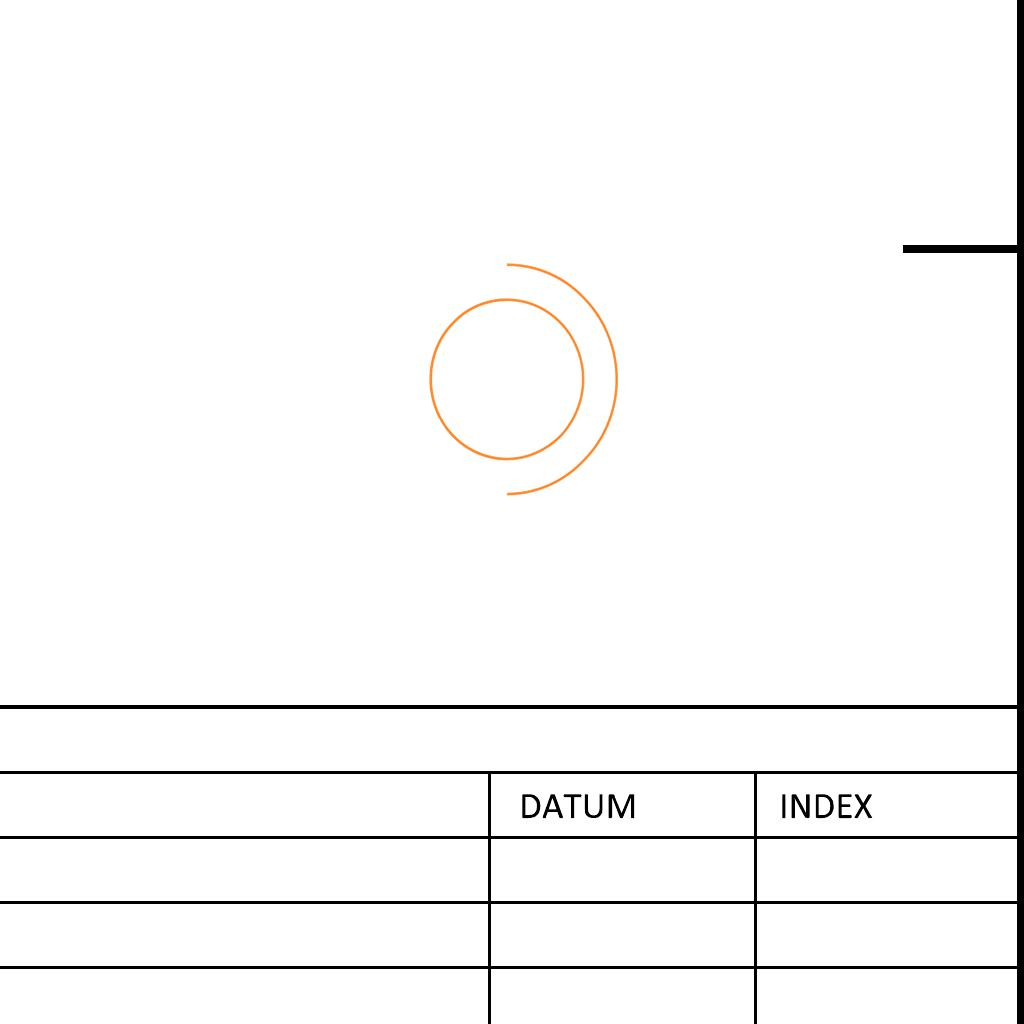Scheinwerfer_fuer_Alarmbeleuchtung: (404, 241, 629, 505)
